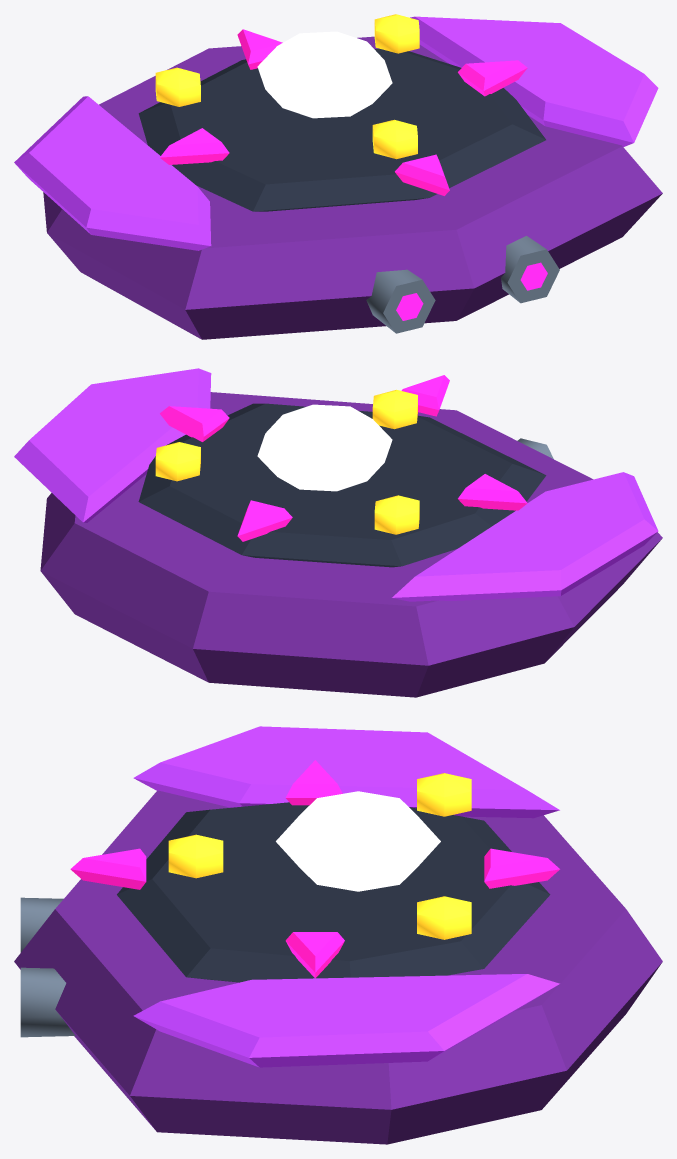
File: boss_tempest_core_mockup.glb
3 views of the same model, one above another, from view 1: azimuth 30°, elevation 25°; view 2: azimuth 150°, elevation 25°; view 3: azimuth 270°, elevation 25° (orthographic). The views are drawn at different scales.
Parts seen in each view (by area): view 1: WAVE 20 // TEMPEST CORE; view 2: WAVE 20 // TEMPEST CORE; view 3: WAVE 20 // TEMPEST CORE.
Part boxes in pixels (x1=…): WAVE 20 // TEMPEST CORE: x1=14, y1=14, x2=662, y2=339; WAVE 20 // TEMPEST CORE: x1=14, y1=368, x2=662, y2=697; WAVE 20 // TEMPEST CORE: x1=14, y1=726, x2=662, y2=1144.
Size of the model in its own units: 10.12 by 3.08 by 8.62.
